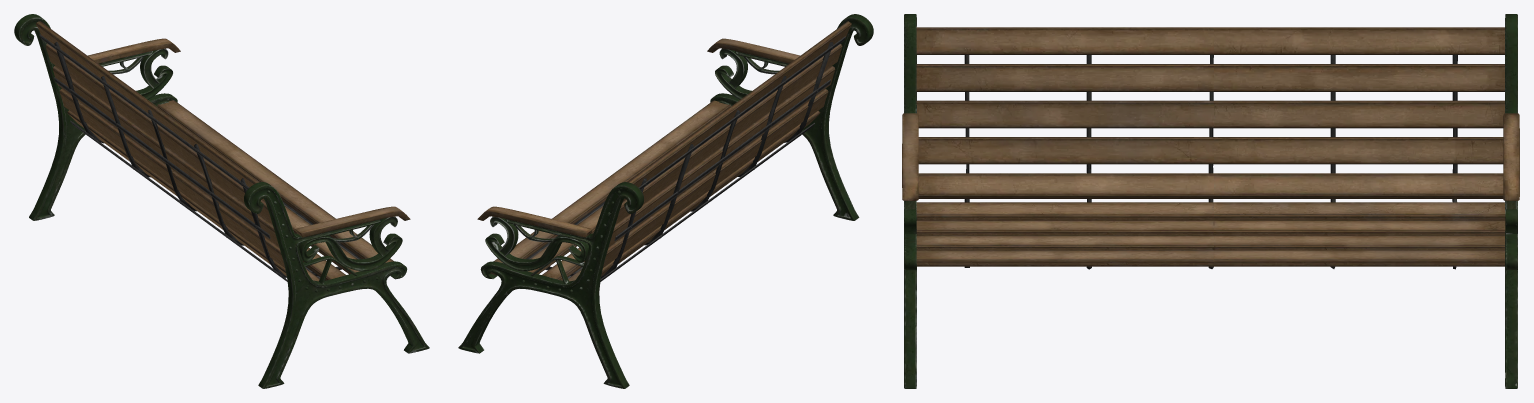
The model's file is fancy_bench.glb.
The picture shows the model from 3 angles, left to right: view 1: azimuth 30°, elevation 25°; view 2: azimuth 150°, elevation 25°; view 3: azimuth 270°, elevation 25°; orthographic projection. The views are drawn at different scales.
Parts seen in each view (by area): view 1: Plane.010; view 2: Plane.010; view 3: Plane.010.
Part boxes in pixels (<box>): Plane.010: <box>14,14,429,388</box>; Plane.010: <box>458,14,873,388</box>; Plane.010: <box>902,14,1519,388</box>.
Size of the model in its own units: 3.22 by 3.46 by 7.25.
3 materials, 3 textured.
